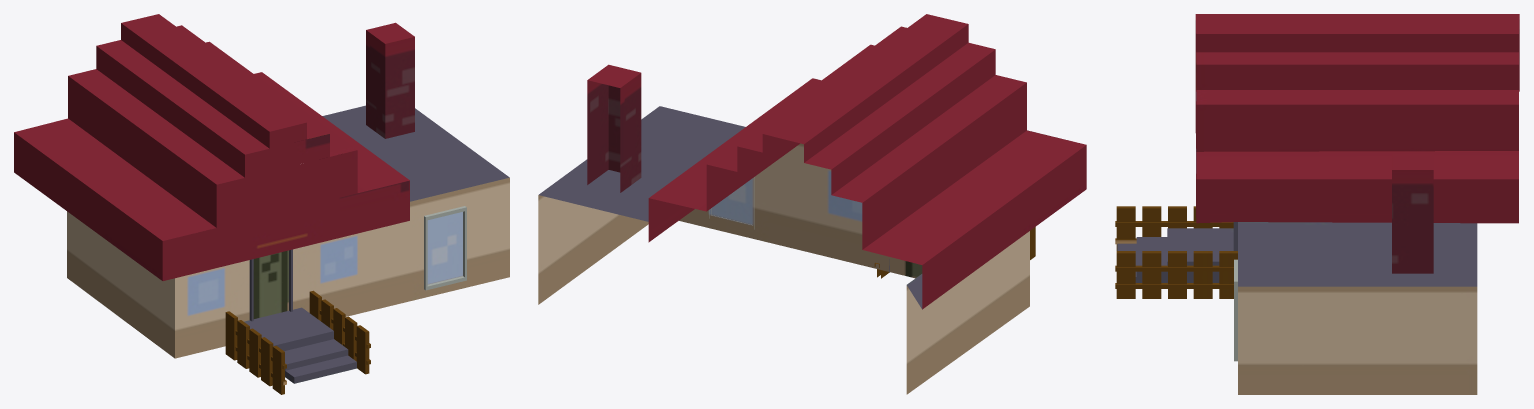
Rendered from casa1.FBX.
3 views of the same model, side by side, from view 1: azimuth 30°, elevation 25°; view 2: azimuth 150°, elevation 25°; view 3: azimuth 270°, elevation 25° (orthographic). The views are drawn at different scales.
Visible parts, largest first — view 1: casa1; view 2: casa1; view 3: casa1.
Boxes of the visible parts, <box> form: casa1: <box>14,14,509,394</box>; casa1: <box>538,14,1086,394</box>; casa1: <box>1115,14,1519,394</box>.
Bounding box in the file's own units: 7.99 × 4.8 × 7.01.
